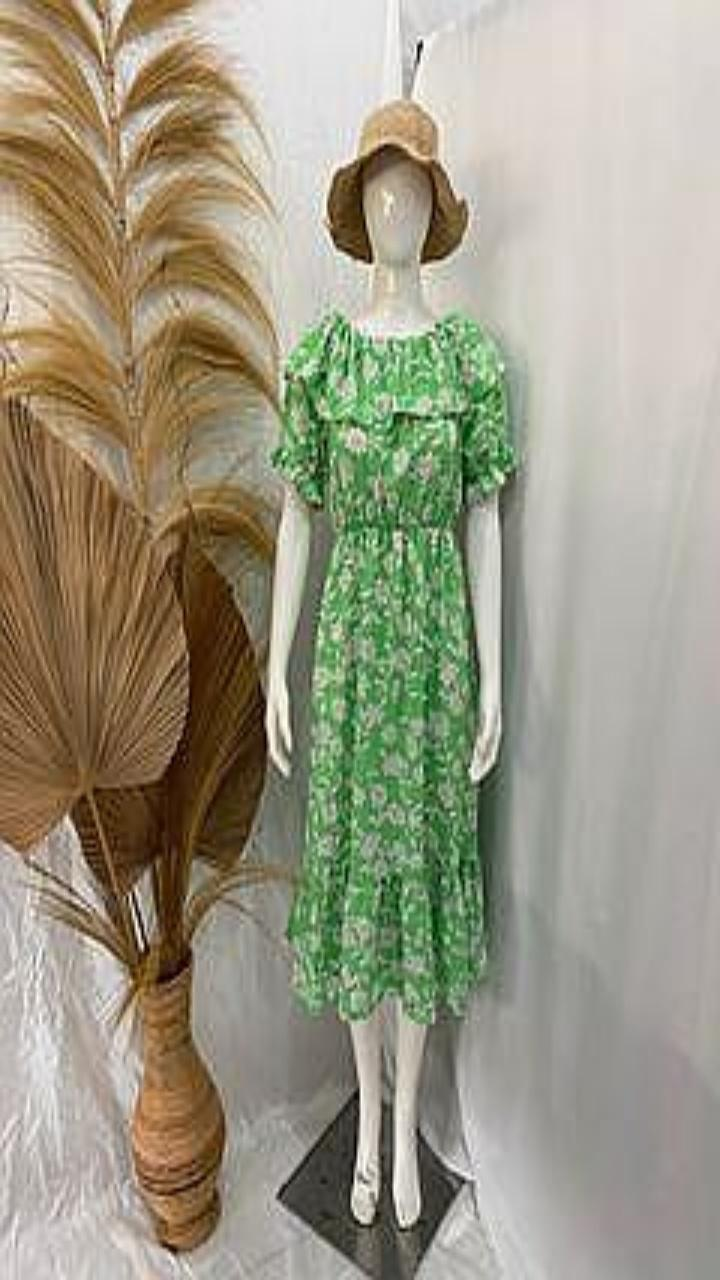Dresses: (271, 311, 517, 1022)
